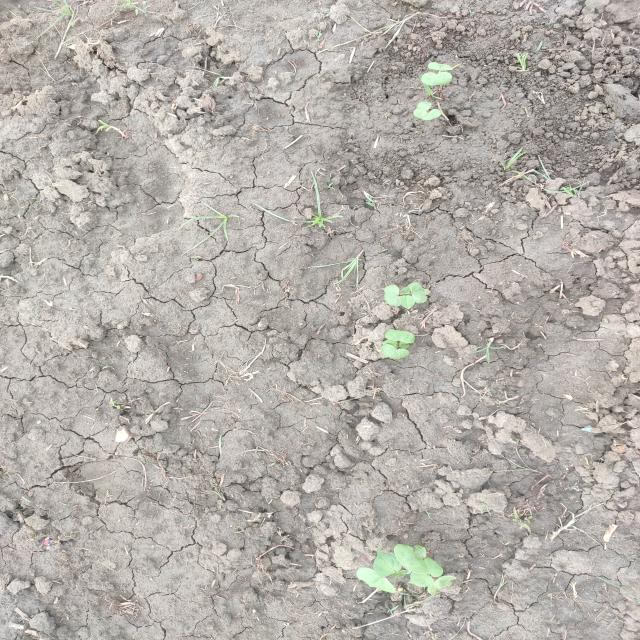seedling_s4: (393, 544, 444, 577), (356, 568, 396, 593), (373, 550, 402, 577), (428, 575, 456, 594), (381, 344, 409, 359), (421, 72, 452, 85), (384, 285, 402, 307), (385, 330, 415, 343), (408, 572, 433, 587), (411, 283, 427, 303), (413, 101, 431, 118), (427, 62, 453, 71), (400, 295, 415, 310), (421, 109, 441, 120), (382, 340, 398, 348), (399, 341, 410, 349), (400, 287, 411, 294)
